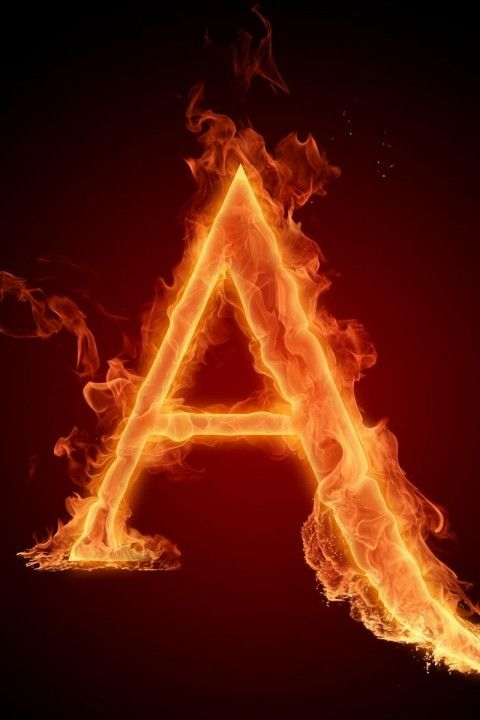fire: (307, 508, 354, 588)
